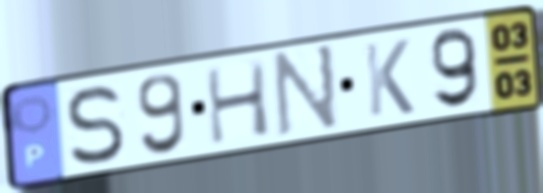9: (135, 71, 188, 158), (428, 25, 482, 110)
H: (202, 57, 274, 149)
K: (360, 36, 417, 120)
N: (272, 40, 340, 141)
S: (64, 82, 128, 168)
